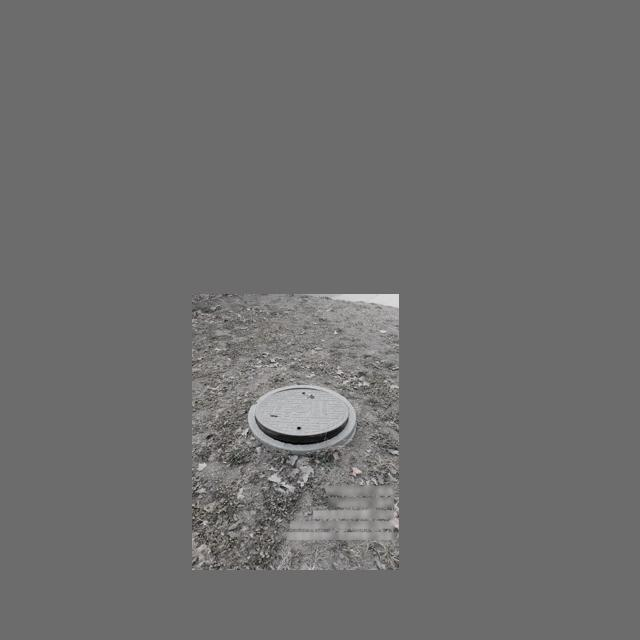uncovered: (249, 384, 357, 456)
